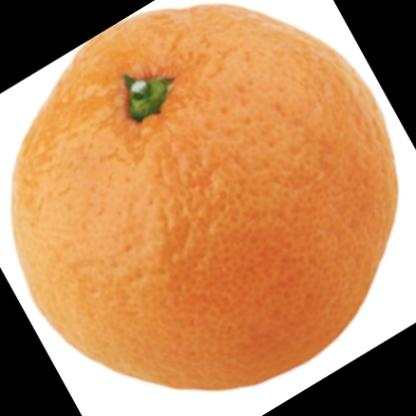fresh: (12, 7, 399, 390)
